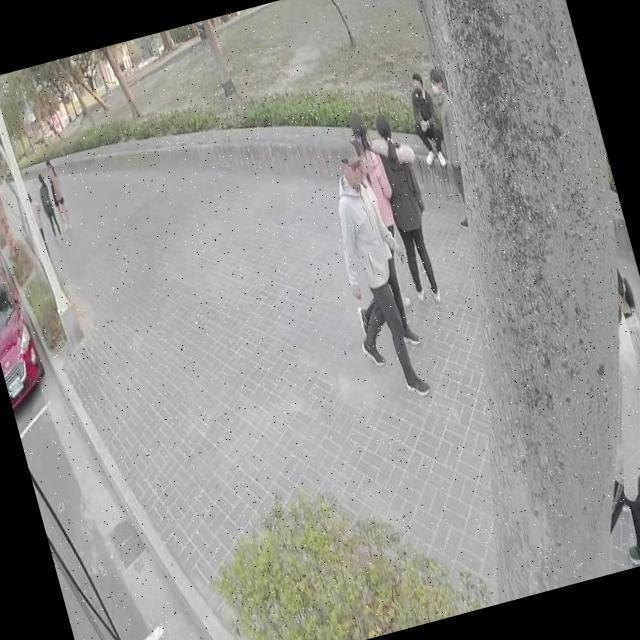person: (312, 136, 429, 405), (561, 300, 640, 568), (368, 106, 450, 303), (354, 134, 422, 344), (425, 67, 481, 208), (354, 109, 397, 224), (403, 70, 449, 164), (42, 154, 74, 231), (36, 171, 64, 240)
